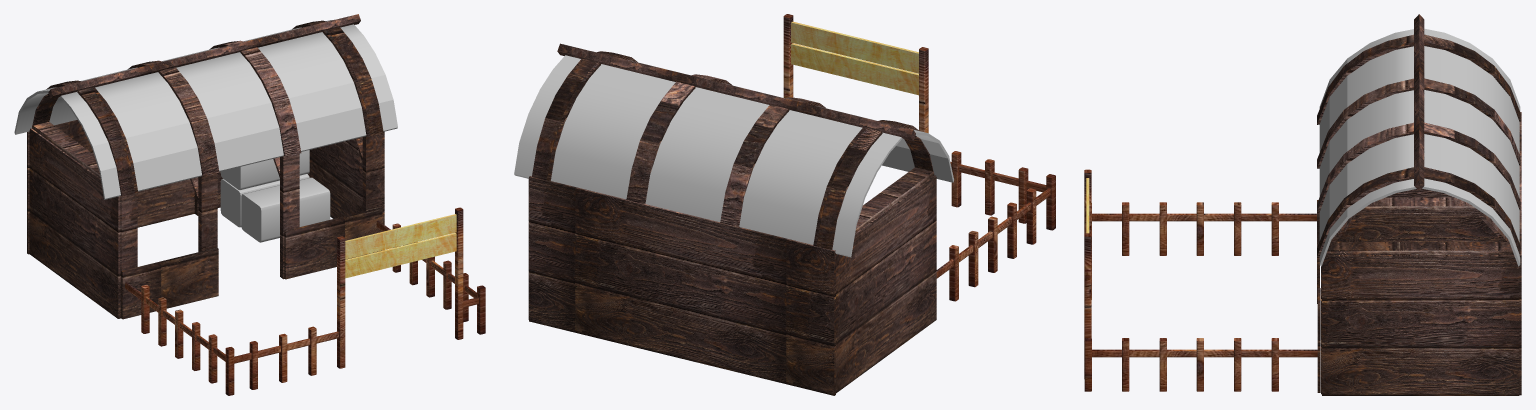
The model's file is Establo.fbx.
3 views of the same model, side by side, from view 1: azimuth 30°, elevation 25°; view 2: azimuth 150°, elevation 25°; view 3: azimuth 270°, elevation 25° (orthographic). The views are drawn at different scales.
Parts seen in each view (by area): view 1: Object058; view 2: Object058; view 3: Object058.
Boxes of the visible parts, x1=… form: Object058: x1=14, y1=14, x2=485, y2=395; Object058: x1=514, y1=14, x2=1055, y2=395; Object058: x1=1084, y1=14, x2=1521, y2=395.
Size of the model in its own units: 2.67 by 1.71 by 2.97.
